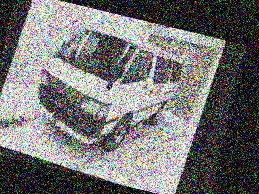van: (20, 9, 195, 167)
